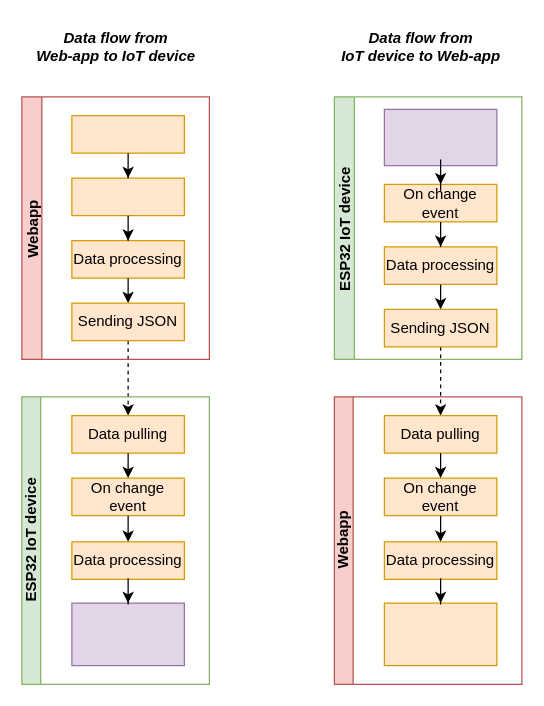
The diagram is 544 pixels wide and 706 high, and some of its shapes have lost their labels. Each missing label, with the centre of its shape:
Change Event: (x=127, y=196)
HTML element: (x=127, y=133)
Pin change / Package from sensors: (x=440, y=137)
Pin change/ Package to extentions: (x=127, y=634)
Sending data to user interface in HTML format: (x=440, y=634)
